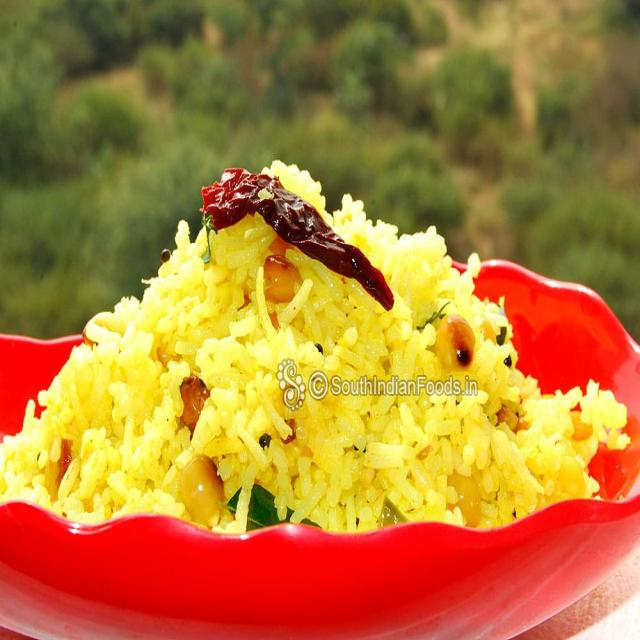lemon rice: (0, 132, 634, 560)
